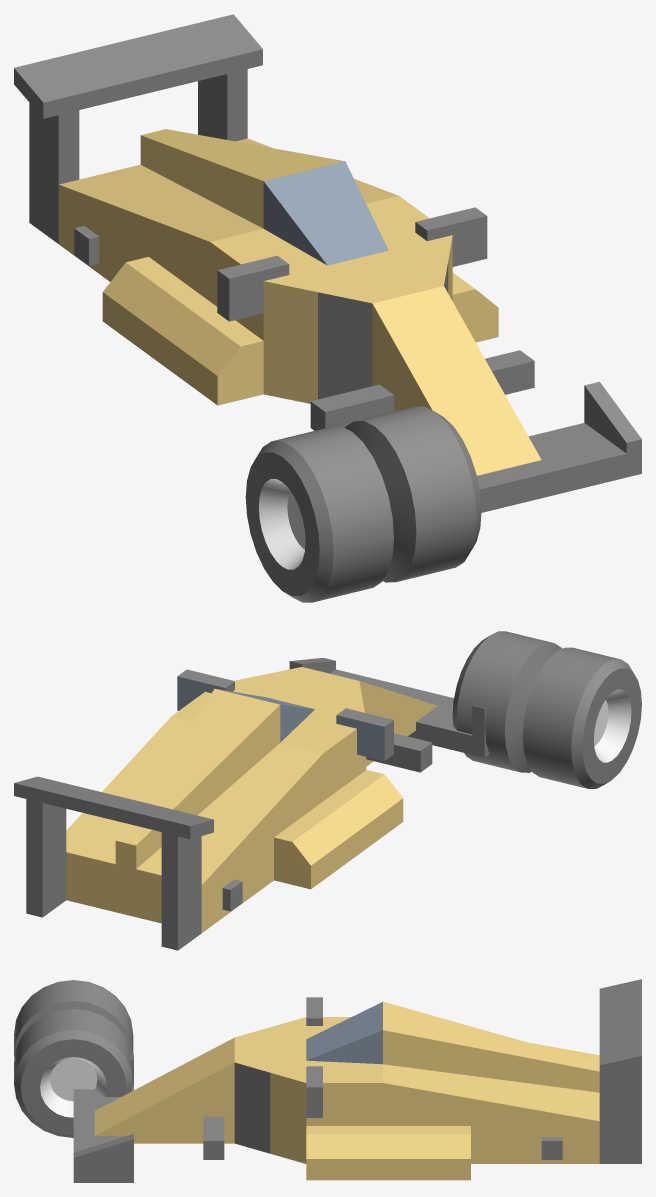
Rendered from raceCarOrange.glb.
The picture shows the model from 3 angles, top to bottom: view 1: azimuth 30°, elevation 25°; view 2: azimuth 150°, elevation 25°; view 3: azimuth 270°, elevation 25°; orthographic projection. The views are drawn at different scales.
Parts seen in each view (by area): view 1: body, wheelBackRight, wheelBackLeft, wheelFrontLeft; view 2: body, wheelBackRight, wheelBackLeft, wheelFrontLeft; view 3: body, wheelBackLeft, wheelBackRight, wheelFrontLeft.
Boxes of the visible parts, bbox=[...] form: body: bbox=[14, 14, 641, 512]; wheelBackRight: bbox=[245, 426, 393, 602]; wheelBackLeft: bbox=[345, 406, 481, 582]; wheelFrontLeft: bbox=[365, 406, 463, 468]; body: bbox=[14, 658, 489, 950]; wheelBackRight: bbox=[523, 647, 641, 788]; wheelBackLeft: bbox=[452, 631, 562, 772]; wheelFrontLeft: bbox=[468, 631, 546, 682]; body: bbox=[73, 979, 641, 1182]; wheelBackLeft: bbox=[14, 1009, 133, 1137]; wheelBackRight: bbox=[14, 980, 133, 1058]; wheelFrontLeft: bbox=[31, 1009, 115, 1116].
Size of the model in its own units: 0.7419 by 0.397 by 1.49.
